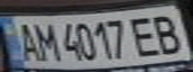0: (75, 19, 96, 62)
1: (90, 18, 112, 60)
4: (57, 18, 81, 62)
7: (106, 16, 130, 60)
A: (12, 19, 42, 63)
B: (148, 11, 190, 56)
E: (127, 12, 166, 57)
M: (30, 18, 60, 62)
